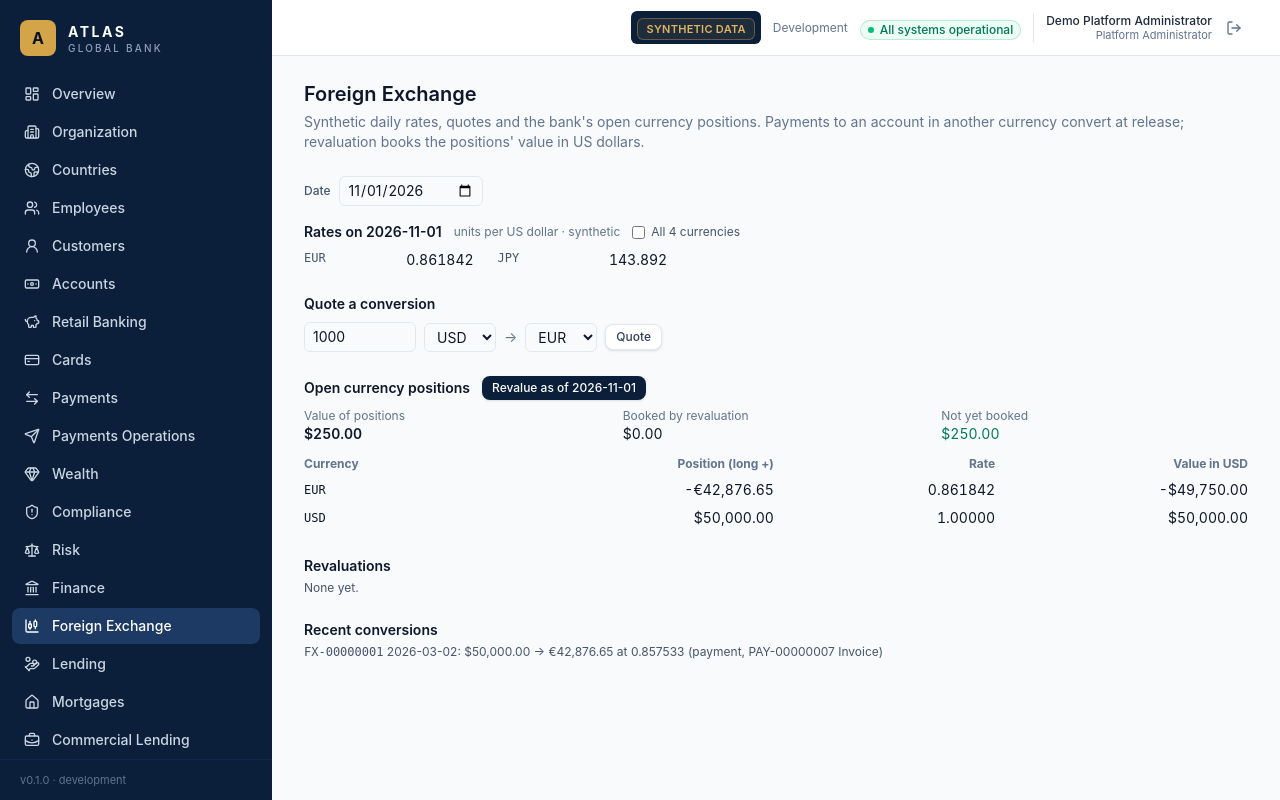
Foreign Exchange page › shows rates, quotes a conversion, and revalues the open positions
expect the text "143.892" is shown: met, box x1=609 y1=250 x2=667 y2=270
expect the text "KWD" is not shown: met
Click the checkbox. click: (639, 232)
box: x1=632 y1=226 x2=645 y2=238
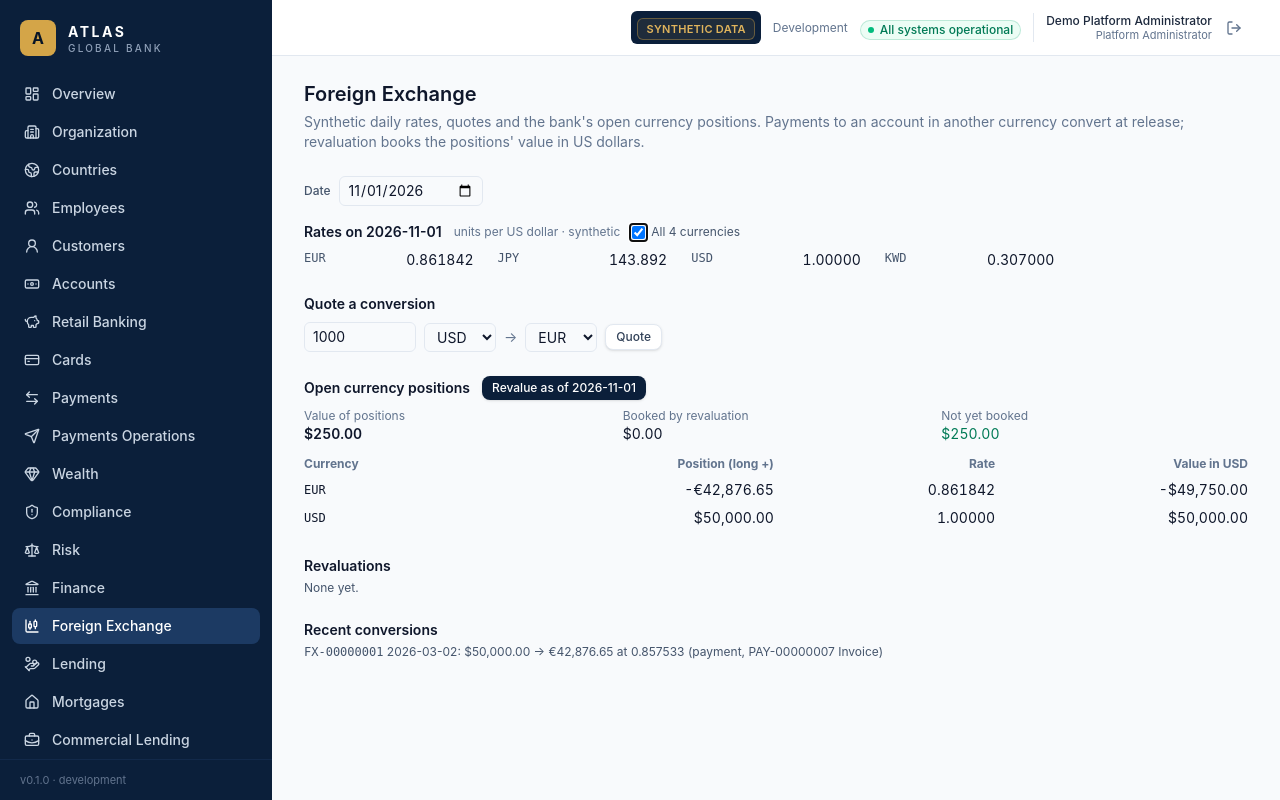
expect the text "KWD" is shown: met, box x1=885 y1=250 x2=906 y2=270
Click the button "Quote". click: (634, 337)
box: x1=605 y1=324 x2=662 y2=350
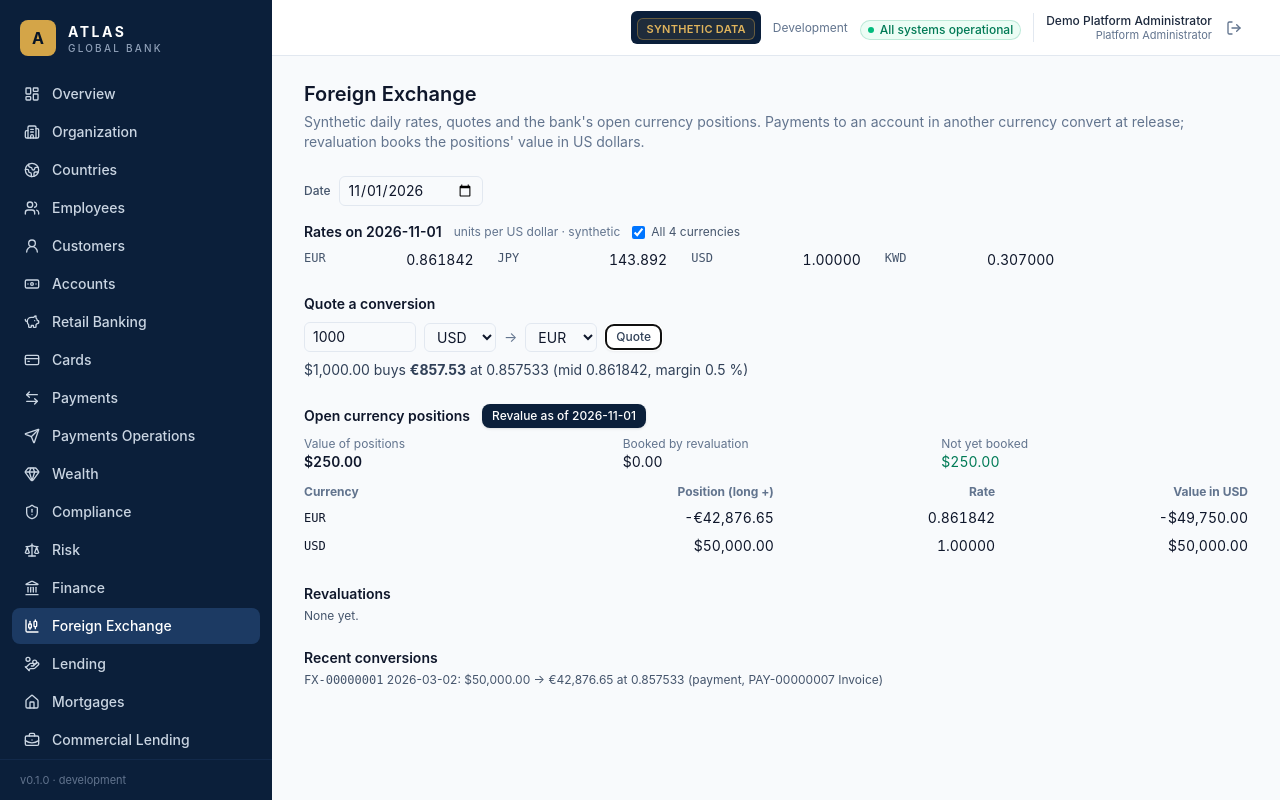
expect the message named "Unbooked FX result" reads "$250.00": met, box x1=941 y1=453 x2=999 y2=470
expect the message "$1,000.00 buys €857.53 at 0.857533 (mid 0.861842, margin 0.5 %)" is shown: met, box x1=304 y1=361 x2=748 y2=378
Click the button "Revalue as of 2026-11-01". click: (564, 416)
box: x1=482 y1=404 x2=646 y2=428
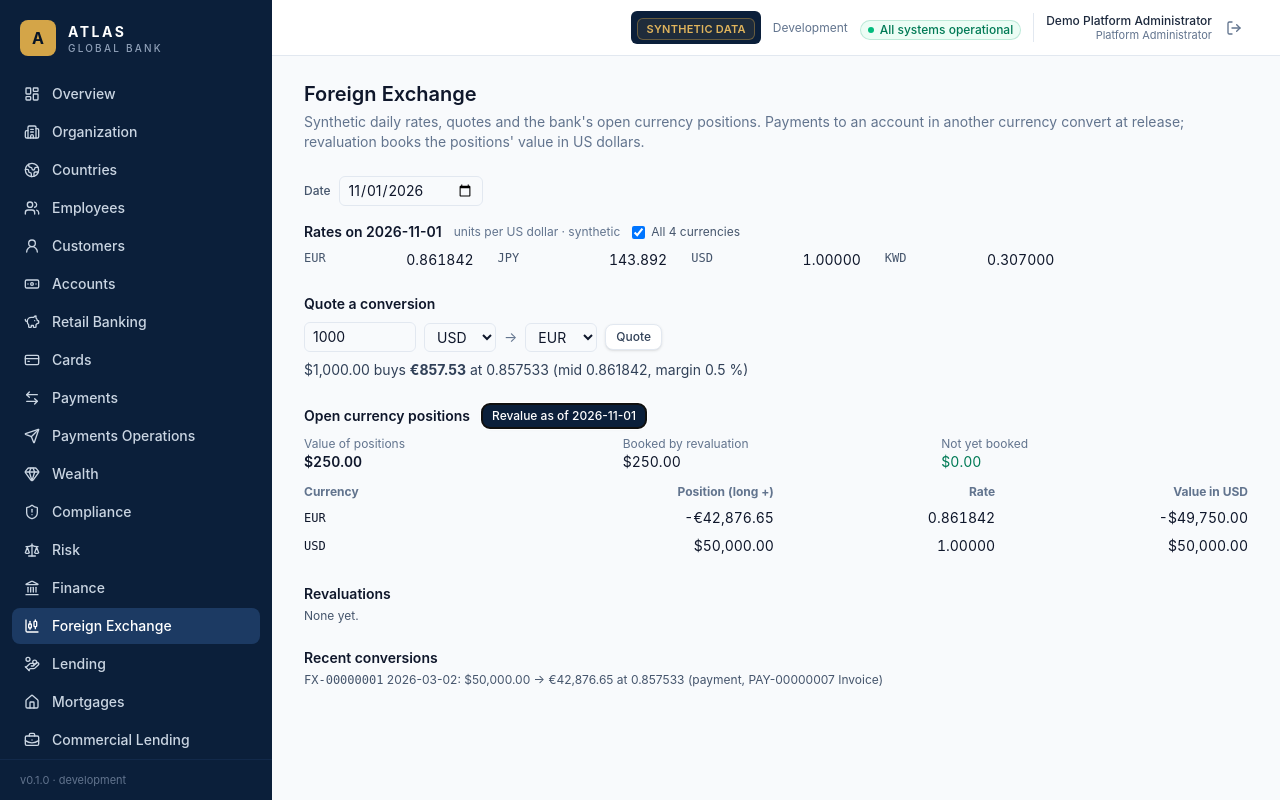
expect the message named "Unbooked FX result" reads "$0.00": met, box x1=941 y1=453 x2=981 y2=470
